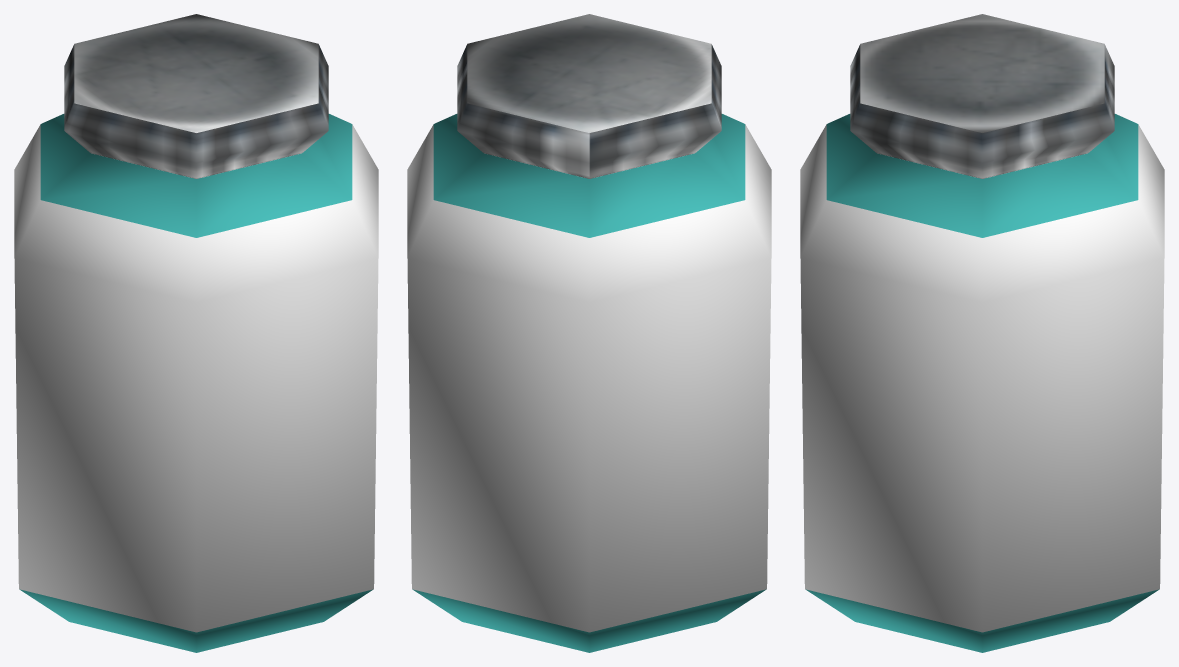
Rendered from Jar.FBX.
The picture shows the model from 3 angles, left to right: view 1: azimuth 30°, elevation 25°; view 2: azimuth 150°, elevation 25°; view 3: azimuth 270°, elevation 25°; orthographic projection.
Visible parts, largest first — view 1: Jar_02; view 2: Jar_02; view 3: Jar_02.
Boxes of the visible parts, <box> form: Jar_02: <box>14,14,378,652</box>; Jar_02: <box>407,14,771,652</box>; Jar_02: <box>800,14,1164,652</box>.
Bounding box in the file's own units: 47.72 × 64.79 × 41.33.
